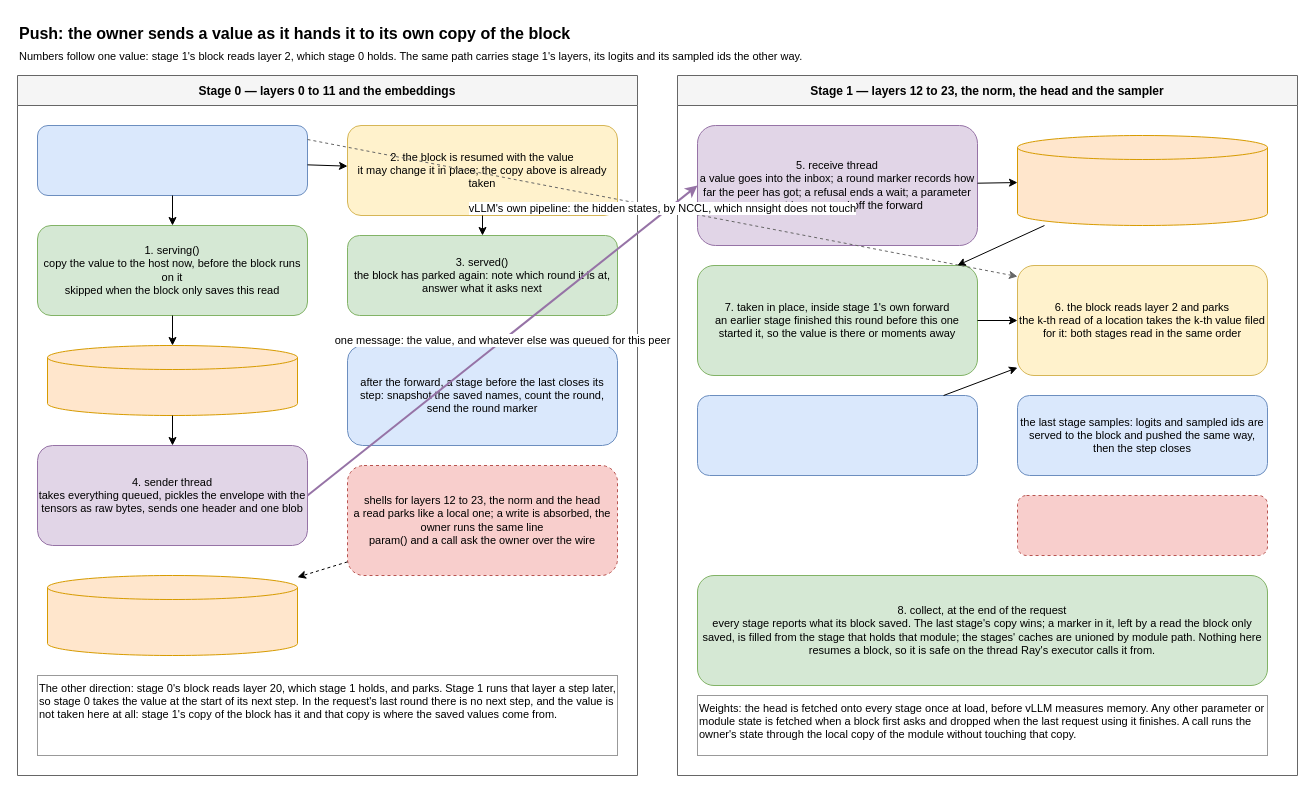
This 1315x793 diagram has some shape labels left out. The centre of each missing label's shape, as x and y in pixels:
"at the start of each step: resume any worker whose value has been produced since" belongs at (837,435).
"forward thread the module controller reaches layer 2 and offers the value" belongs at (172,160).
"inbox" belongs at (1142,180).
"inbox: request and worker, then location, in arrival order" belongs at (172,615).
"outbound queue, one per peer" belongs at (172,380).
"shells for layers 0 to 11 and the embeddings" belongs at (1142,525).
